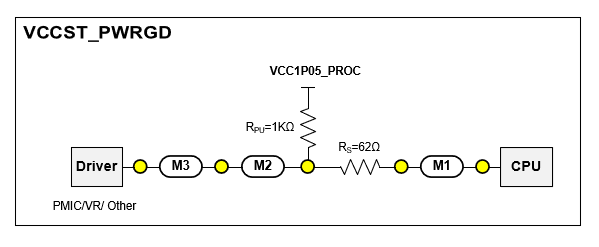circle: (133, 159, 148, 174), (214, 160, 230, 174), (476, 160, 490, 174), (301, 161, 315, 174), (396, 159, 407, 174)
oval: (420, 154, 464, 177), (160, 156, 202, 180), (242, 156, 285, 177)
power: (294, 82, 323, 105)
rectangle: (500, 147, 553, 188), (71, 146, 123, 186)
resistor: (292, 108, 324, 149), (338, 157, 382, 181)
